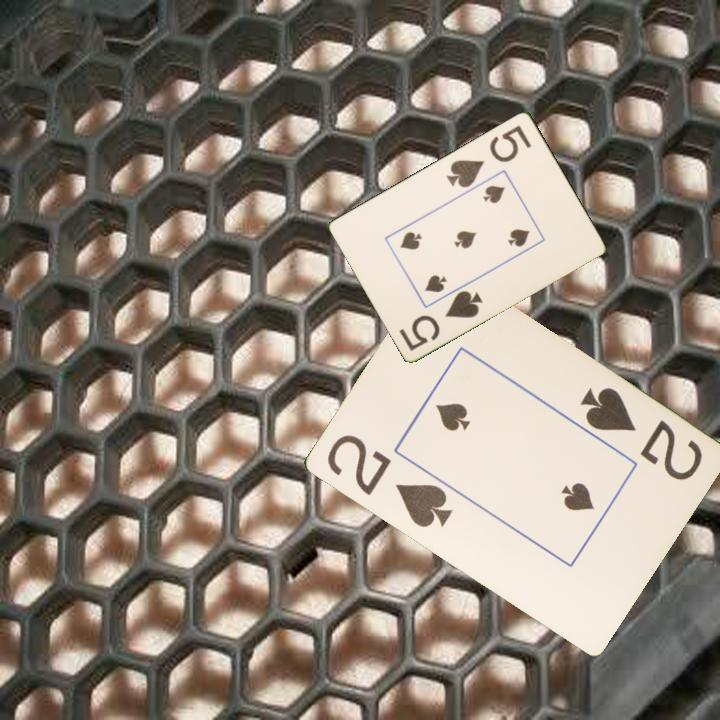2s: (322, 430, 456, 531), (575, 383, 705, 484)
5s: (443, 121, 534, 190), (395, 286, 486, 354)
